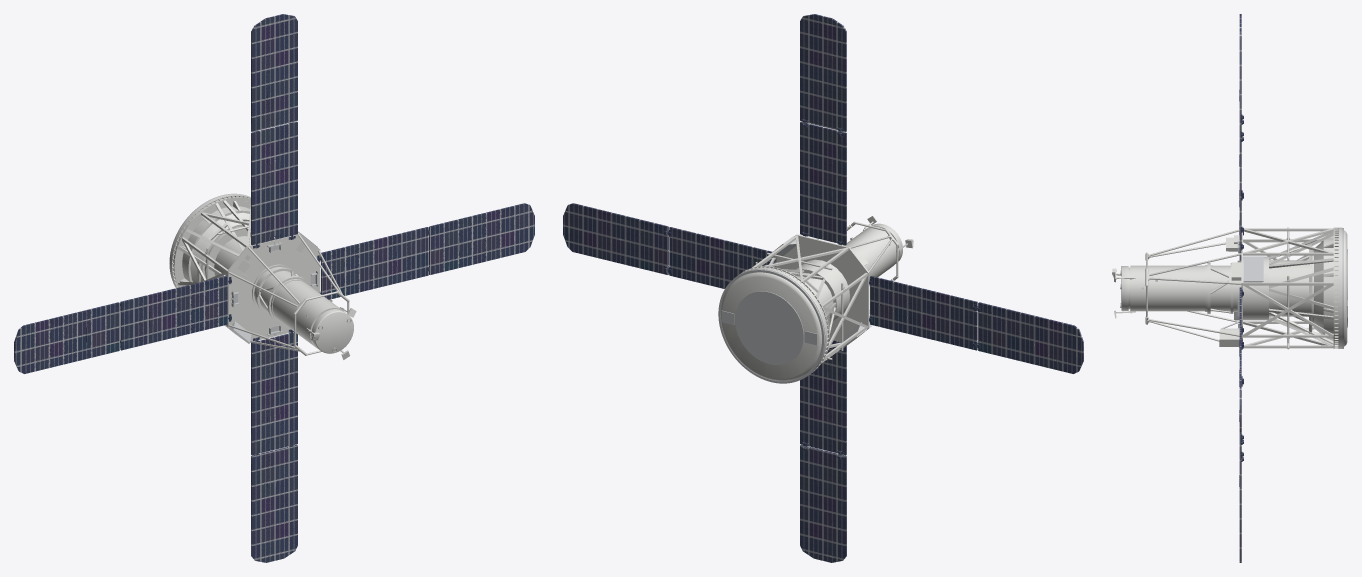
Rendered from rhessi.glb.
The picture shows the model from 3 angles, left to right: view 1: azimuth 30°, elevation 25°; view 2: azimuth 150°, elevation 25°; view 3: azimuth 270°, elevation 25°; orthographic projection.
Parts seen in each view (by area): view 1: <LWODefault>; view 2: <LWODefault>; view 3: <LWODefault>.
Boxes of the visible parts, box(x1,y1,x2,y2) form: <LWODefault>: box(14, 14, 534, 562); <LWODefault>: box(563, 14, 1083, 562); <LWODefault>: box(1112, 14, 1347, 562).
Size of the model in its own units: 5.76 by 5.76 by 2.28.
3 materials, 1 textured.
